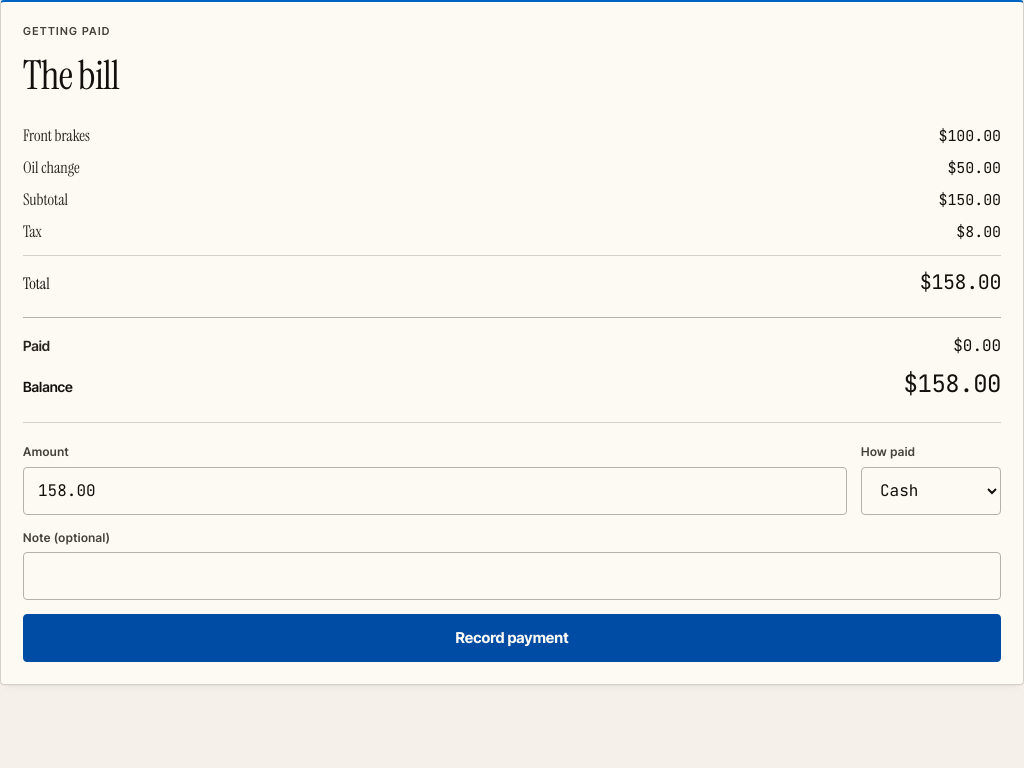
Scenario: RingOutSection › surfaces an overpayment rejection without changing the balance
Click the button "Record payment" at (512, 638), box [23, 614, 1001, 662]
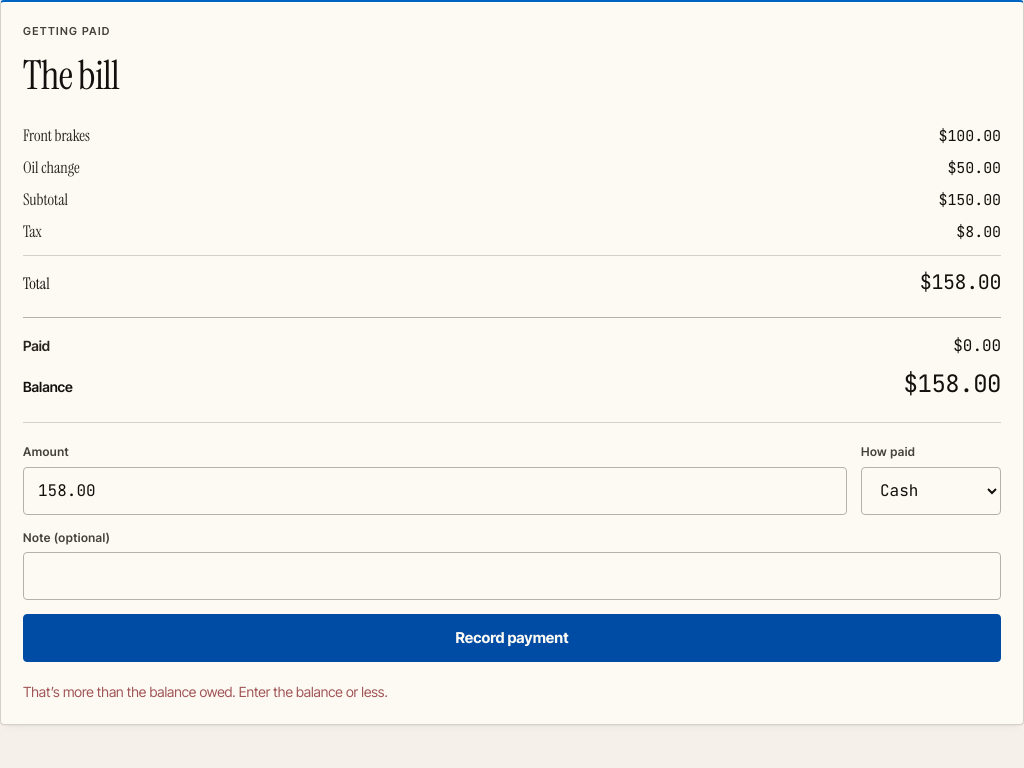
Expected: the message shows "more than the balance owed", [23, 683, 388, 700]
